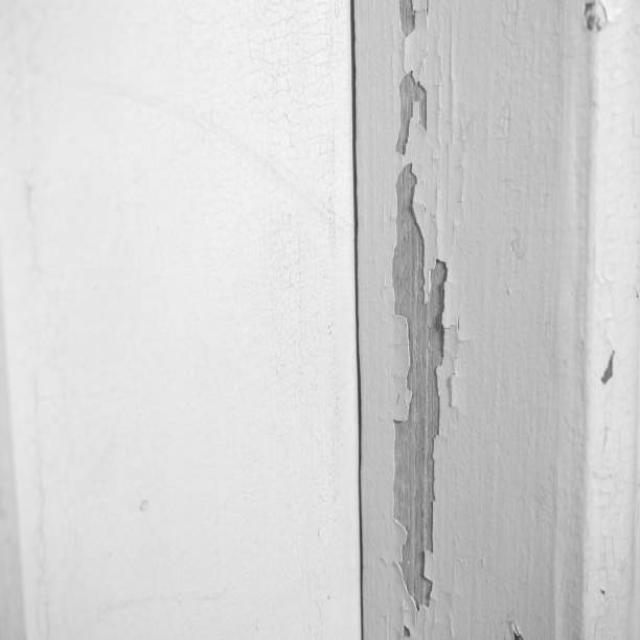peeling paint: (381, 0, 477, 640), (575, 323, 628, 392), (572, 0, 631, 59), (495, 609, 533, 640)
